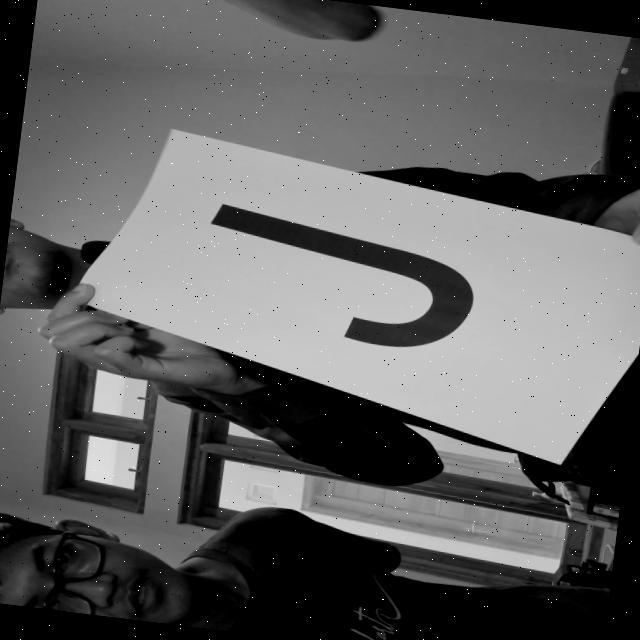j: (180, 195, 498, 364)
